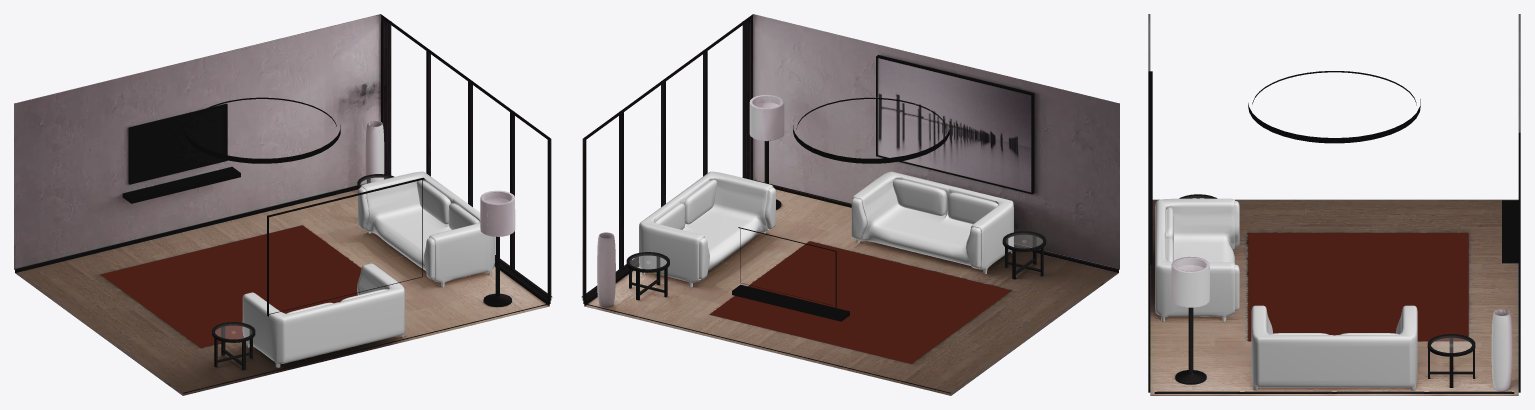
File: squared.glb
3 renders of one model, left to right at view 1: azimuth 30°, elevation 25°; view 2: azimuth 150°, elevation 25°; view 3: azimuth 270°, elevation 25°, orthographic. The views are drawn at different scales.
Parts seen in each view (by area): view 1: Modern Living Room; view 2: Modern Living Room; view 3: Modern Living Room.
Part boxes in pixels (x1,y1,x2,y2): Modern Living Room: [14, 14, 552, 395]; Modern Living Room: [581, 14, 1119, 395]; Modern Living Room: [1148, 14, 1520, 395].
Bounding box in the file's own units: 5.84 × 2.55 × 4.6.
11 materials, 7 textured.
